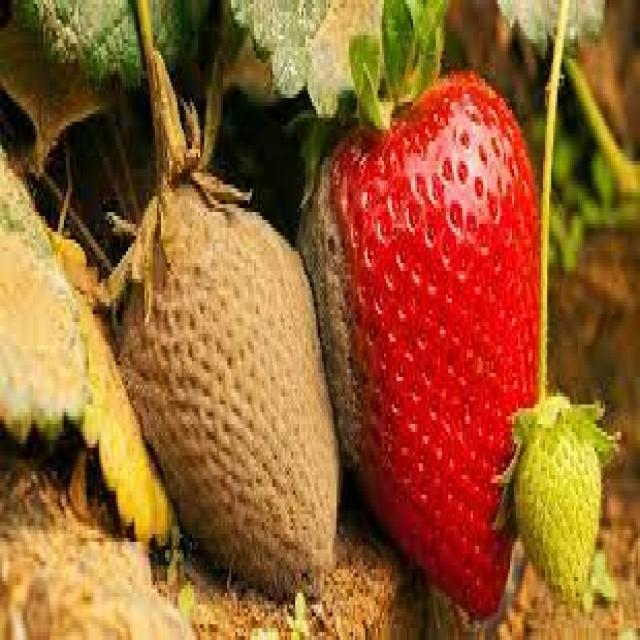Moho gris: (300, 114, 546, 618), (121, 152, 336, 601)
